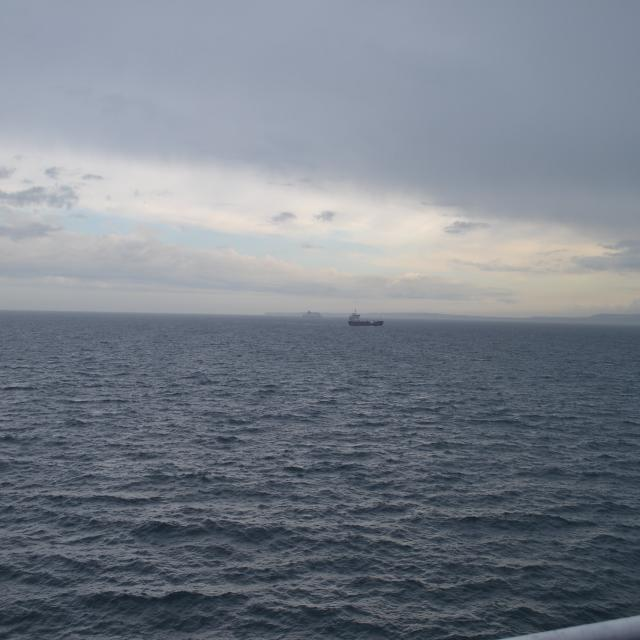cargoship: (347, 309, 385, 327)
